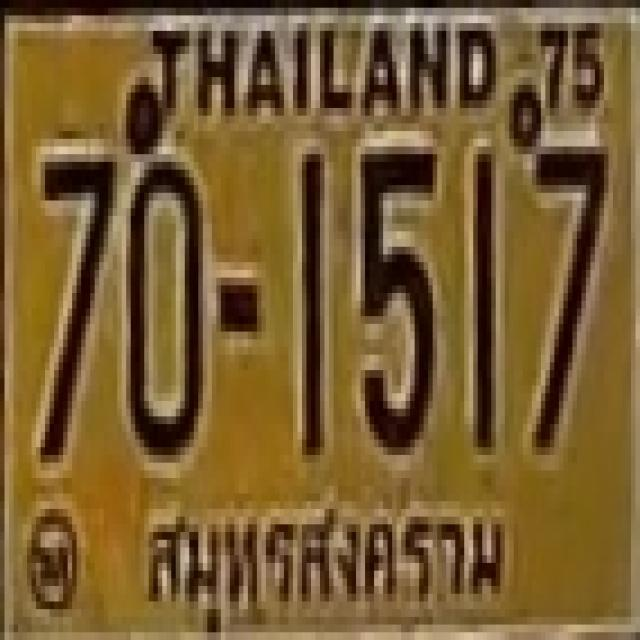0: (128, 154, 200, 447)
1: (471, 147, 494, 447), (300, 150, 322, 451)
5: (356, 139, 433, 447)
7: (38, 154, 115, 455), (532, 139, 604, 447)
SKM: (136, 481, 519, 640)
